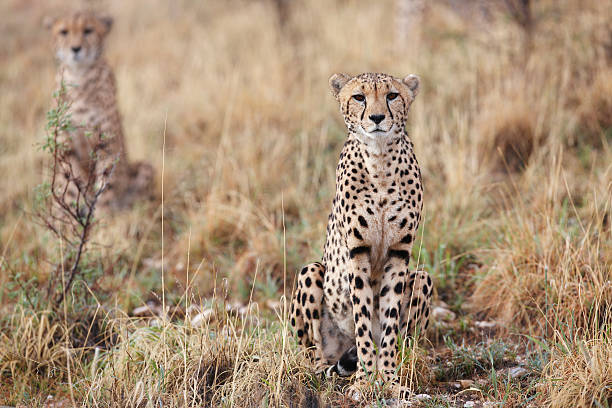cheetah: (321, 61, 436, 154)
